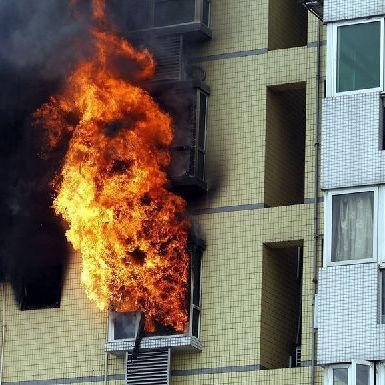fire: (40, 21, 207, 337)
